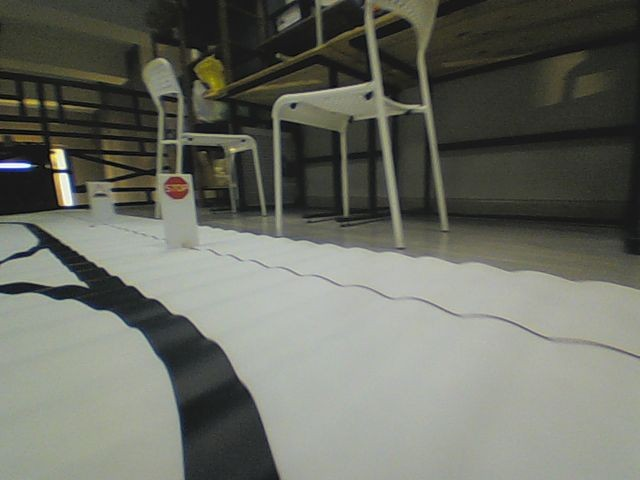Stop: (163, 174, 189, 200)
